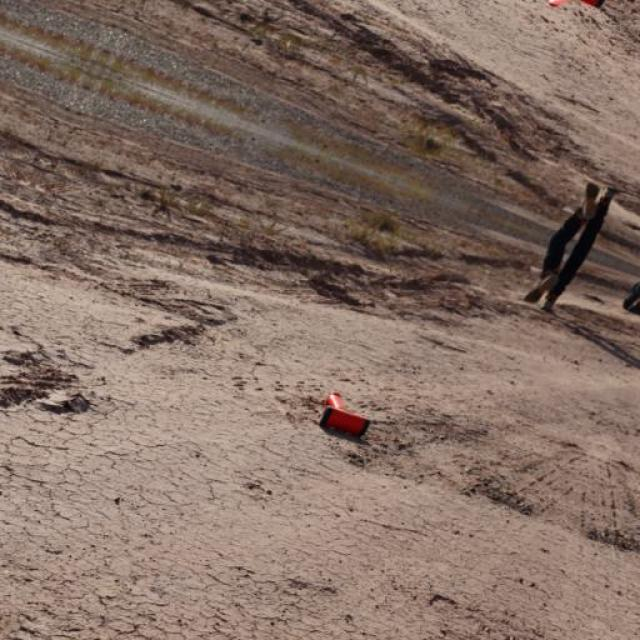mallet: (318, 390, 370, 439)
